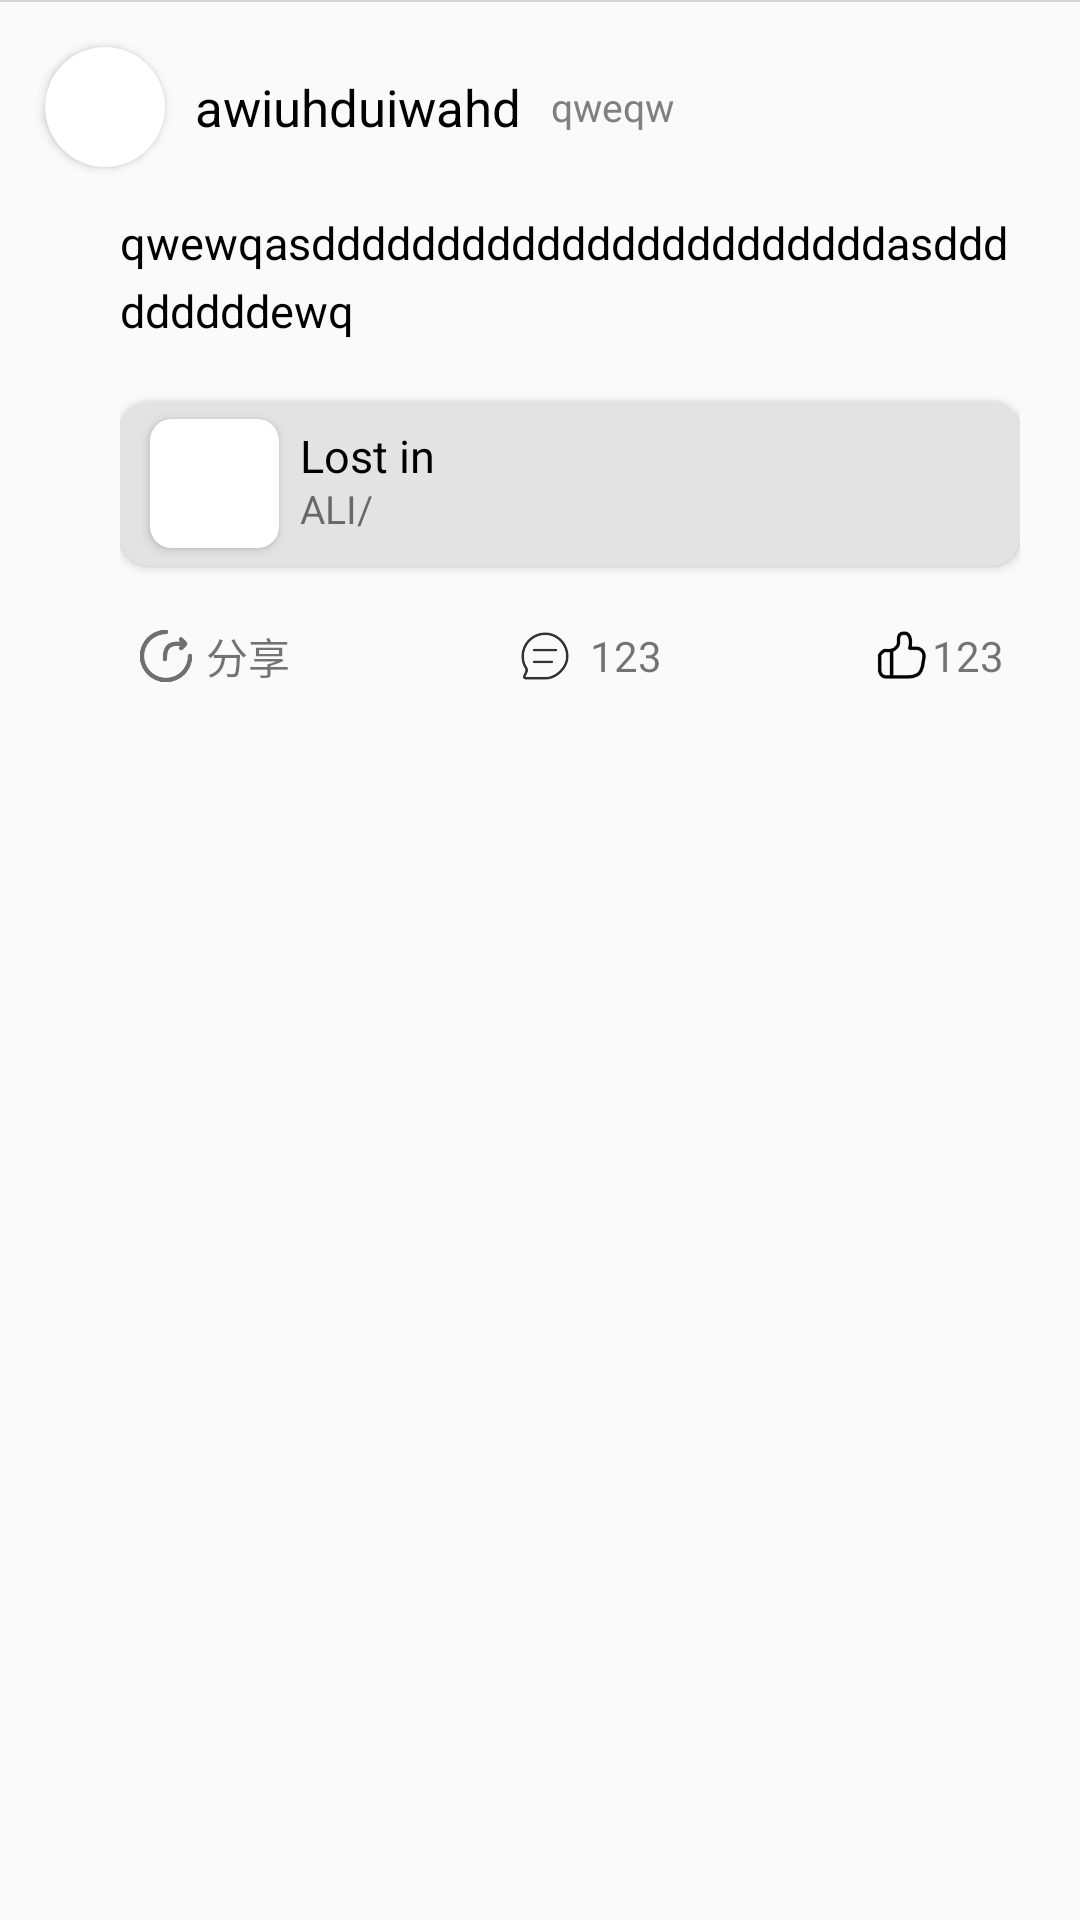

Icon bounding boxes for this 1080*1920 phone screenshot, format (x1, y1, x2, y2):
dianzan: (877, 631, 926, 679)
pingklun: (521, 632, 569, 680)
